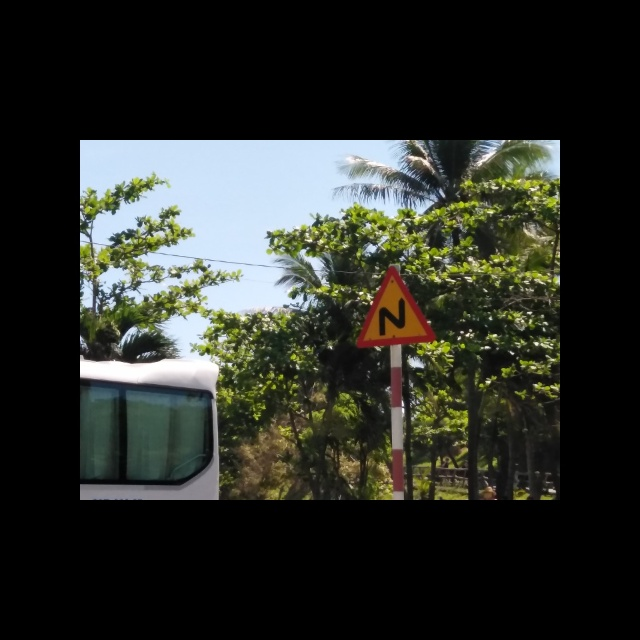Ngoặt nguy hiểm liên tiếp bên phải: (356, 265, 434, 351)
